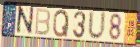3: (71, 10, 86, 40)
8: (108, 13, 123, 42)
B: (34, 7, 52, 37)
N: (14, 5, 35, 37)
Q: (52, 9, 71, 38)
U: (87, 10, 107, 42)
